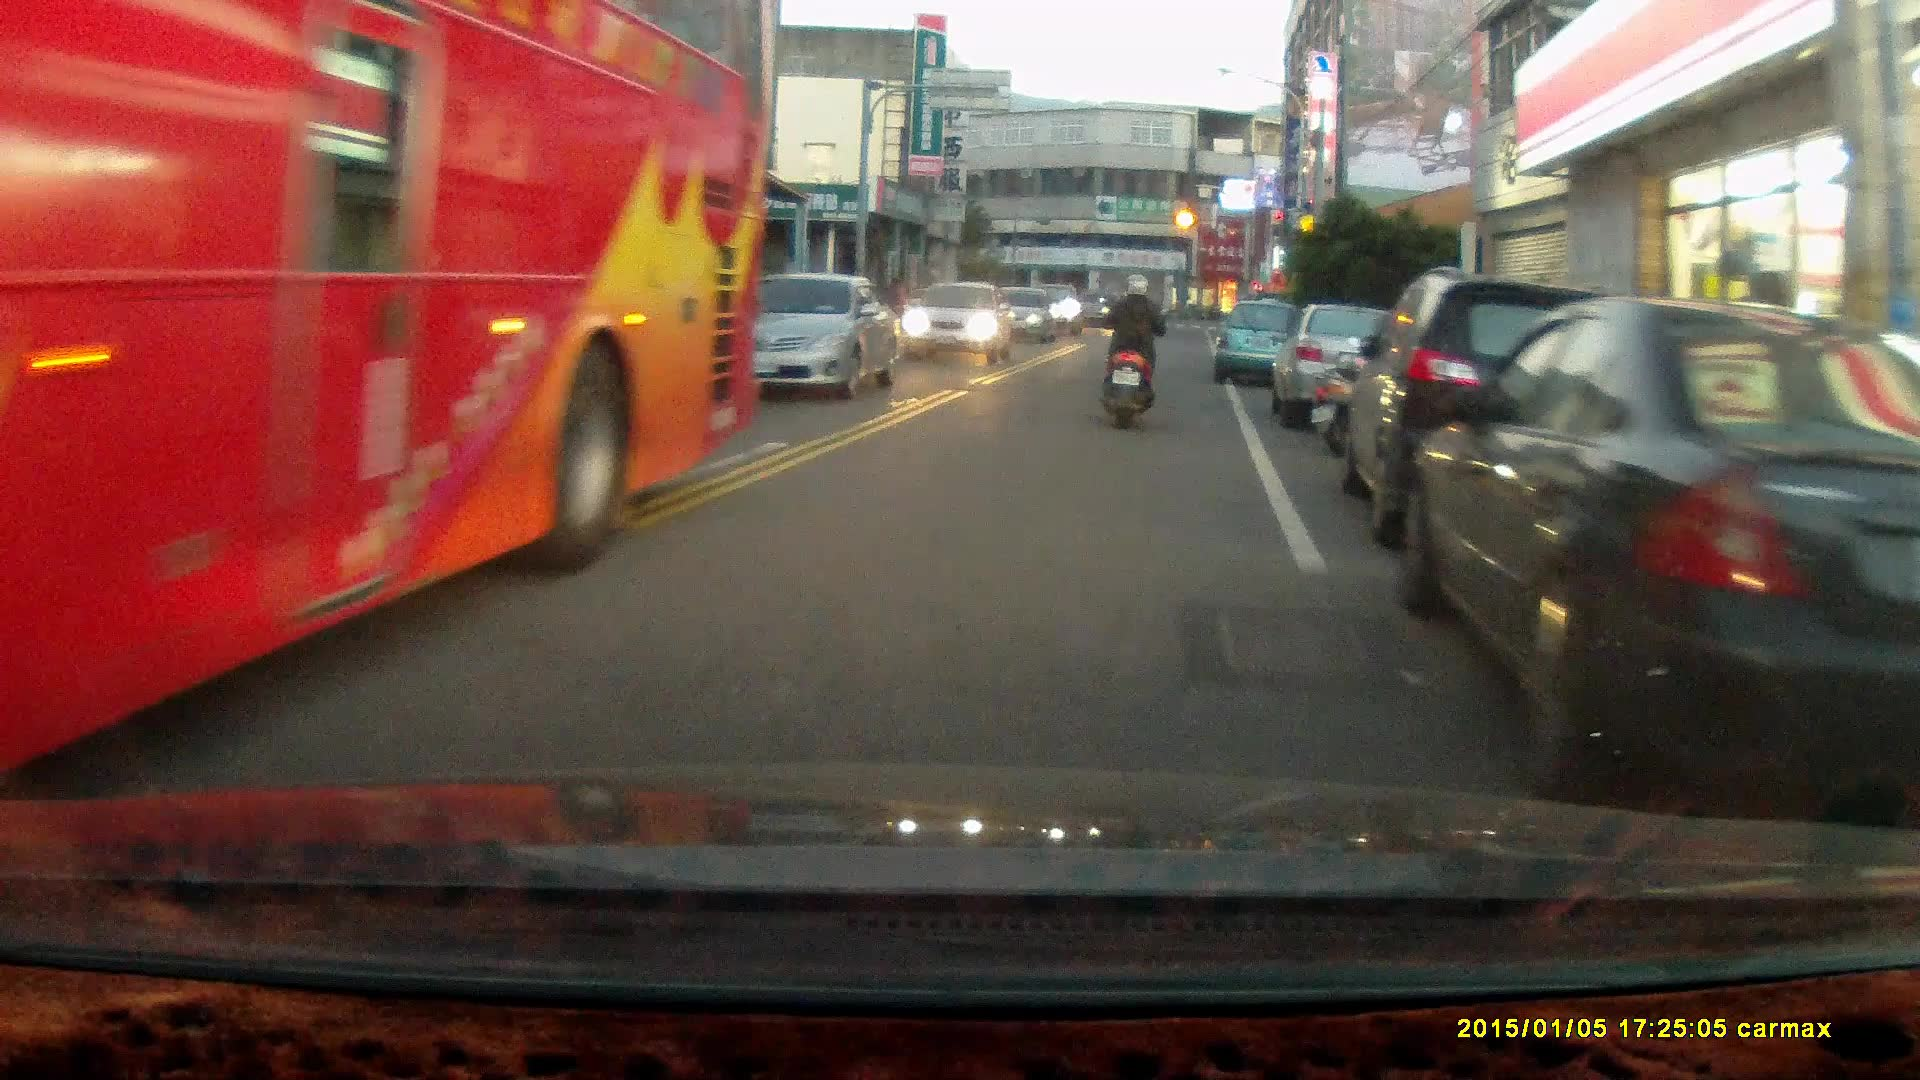rider: (1092, 271, 1165, 429)
vehicle: (1, 9, 770, 774), (1400, 294, 1920, 797), (1331, 264, 1731, 554), (697, 278, 894, 401), (1278, 304, 1450, 434), (901, 281, 1016, 368), (1210, 300, 1305, 386)
